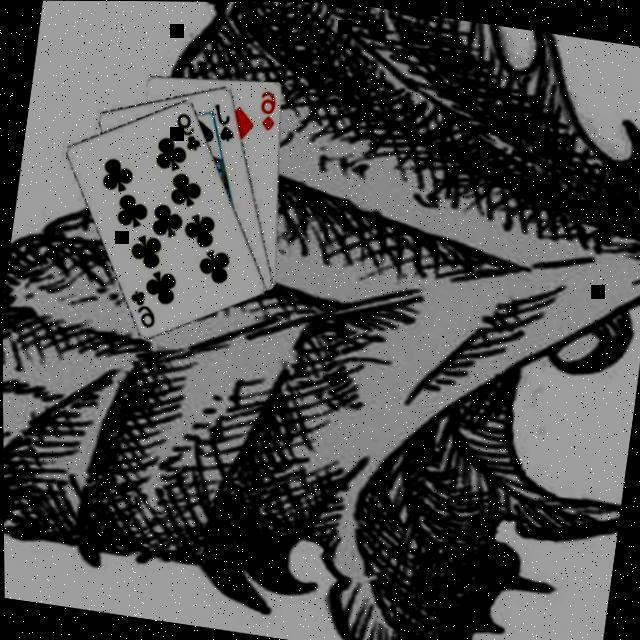6D: (255, 88, 282, 135)
9C: (169, 110, 208, 156), (123, 287, 162, 333)
JS: (207, 101, 241, 146)
